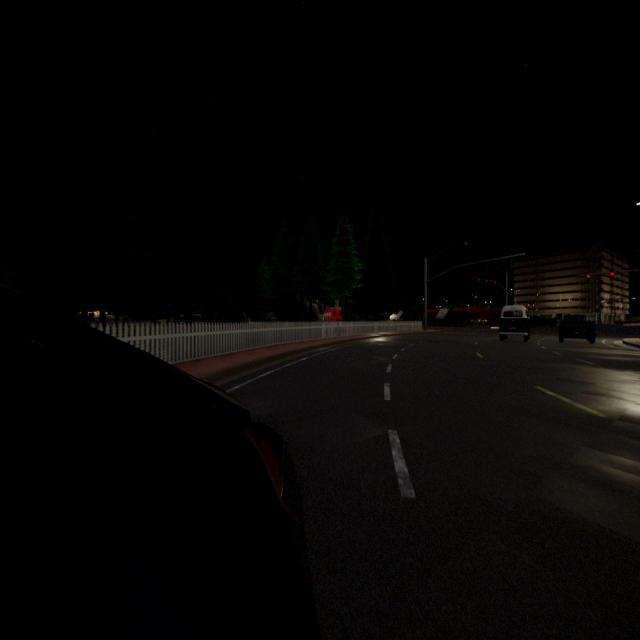Vehicle: (0, 280, 312, 640), (499, 305, 531, 342), (558, 314, 596, 344)
traffic_light: (610, 272, 614, 280), (586, 274, 590, 280), (485, 280, 488, 286), (478, 278, 480, 284), (494, 281, 496, 286)
